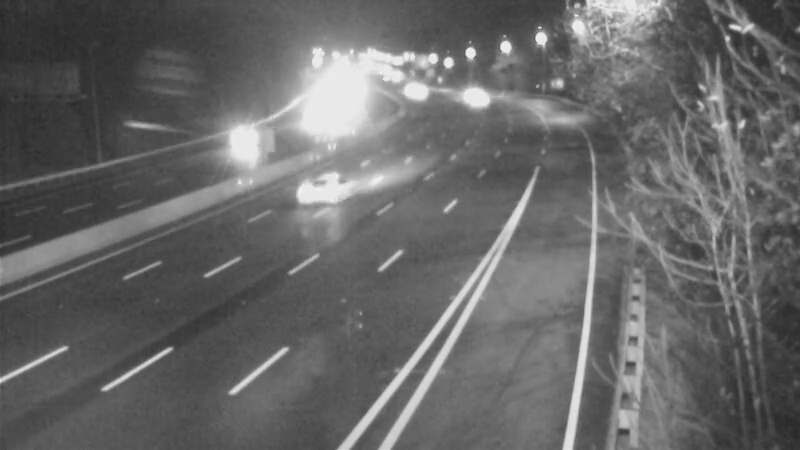vehicle: (268, 154, 348, 234), (385, 62, 435, 112), (399, 69, 449, 119), (440, 66, 490, 116), (460, 76, 510, 126), (210, 120, 260, 170)
